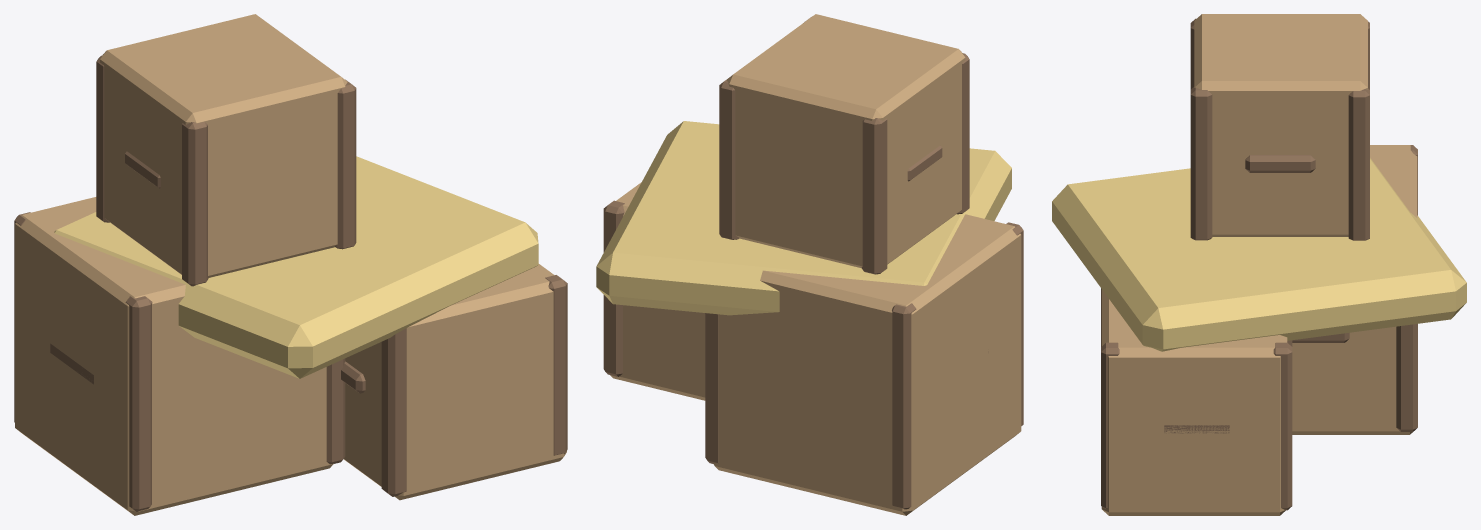
The model's file is crate_stack.glb.
3 views of the same model, side by side, from view 1: azimuth 30°, elevation 25°; view 2: azimuth 150°, elevation 25°; view 3: azimuth 270°, elevation 25° (orthographic). The views are drawn at different scales.
Visible parts, largest first — view 1: crate_stack_0, crate_stack_2, crate_stack_1; view 2: crate_stack_0, crate_stack_2, crate_stack_1; view 3: crate_stack_0, crate_stack_2, crate_stack_1.
Boxes of the visible parts, x1,y1,x2,y2 form: crate_stack_0: (15, 14, 566, 515); crate_stack_2: (54, 156, 538, 378); crate_stack_1: (14, 55, 567, 511); crate_stack_0: (610, 14, 1021, 515); crate_stack_2: (596, 121, 1011, 315); crate_stack_1: (603, 17, 1023, 509); crate_stack_0: (1101, 14, 1417, 515); crate_stack_2: (1052, 158, 1466, 351); crate_stack_1: (1101, 18, 1417, 510).
Bounding box in the file's own units: 2 × 1.91 × 2.
